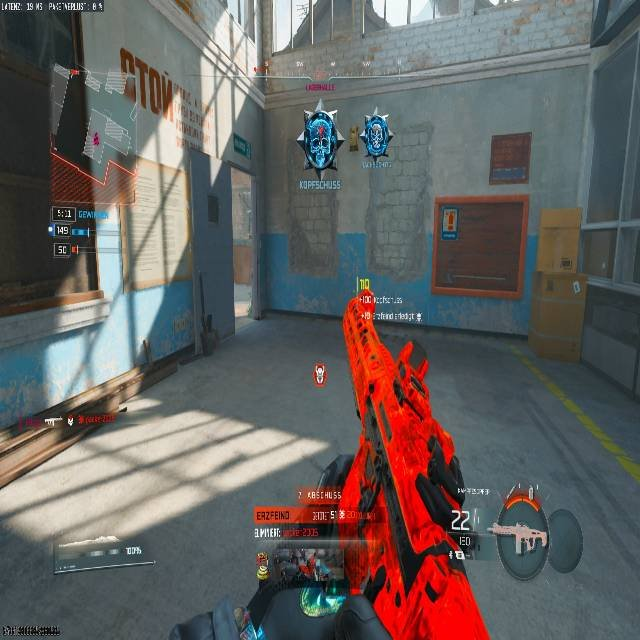player: (299, 103, 341, 174), (361, 107, 391, 162)
